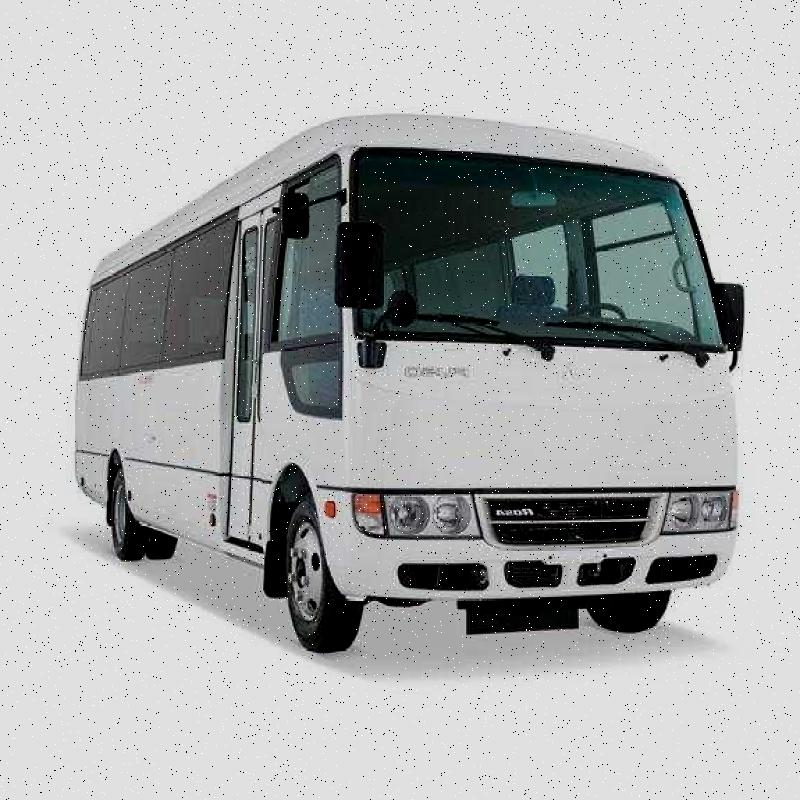bus: (74, 91, 768, 648)
